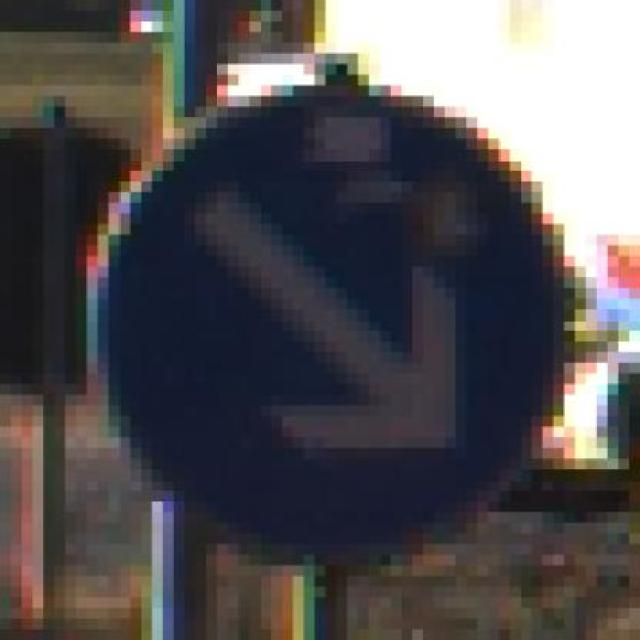Keep-Right: (75, 42, 608, 576)
